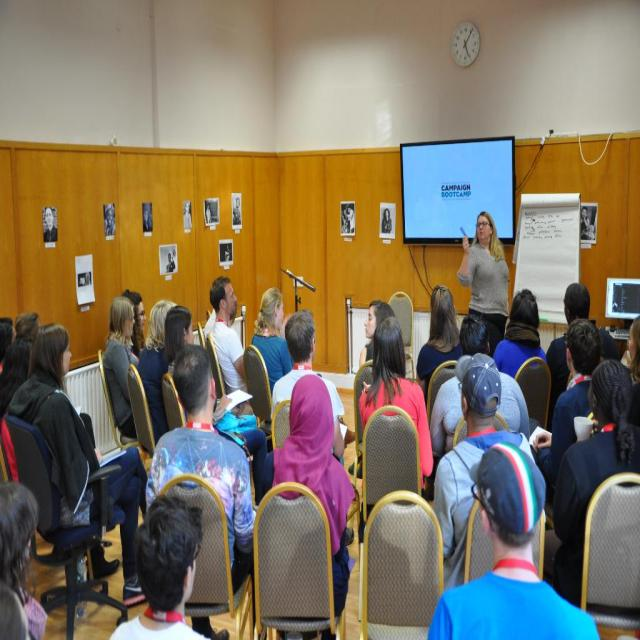Chair: (4, 416, 128, 639), (159, 473, 253, 638), (252, 482, 350, 640), (361, 492, 444, 640), (582, 473, 640, 638), (460, 492, 547, 586), (98, 349, 142, 454), (426, 357, 459, 459), (512, 355, 556, 431), (354, 356, 377, 494), (246, 341, 273, 453), (388, 288, 417, 382), (196, 306, 224, 396), (131, 365, 154, 459), (165, 374, 188, 433), (272, 398, 292, 454)
